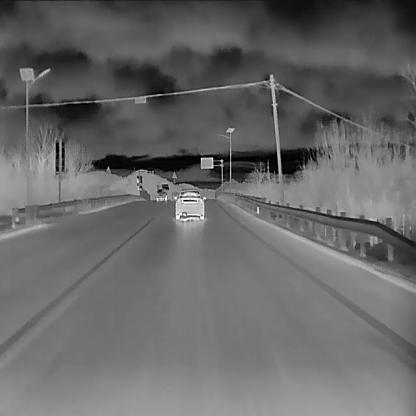car: (172, 189, 206, 220), (155, 188, 167, 201)
